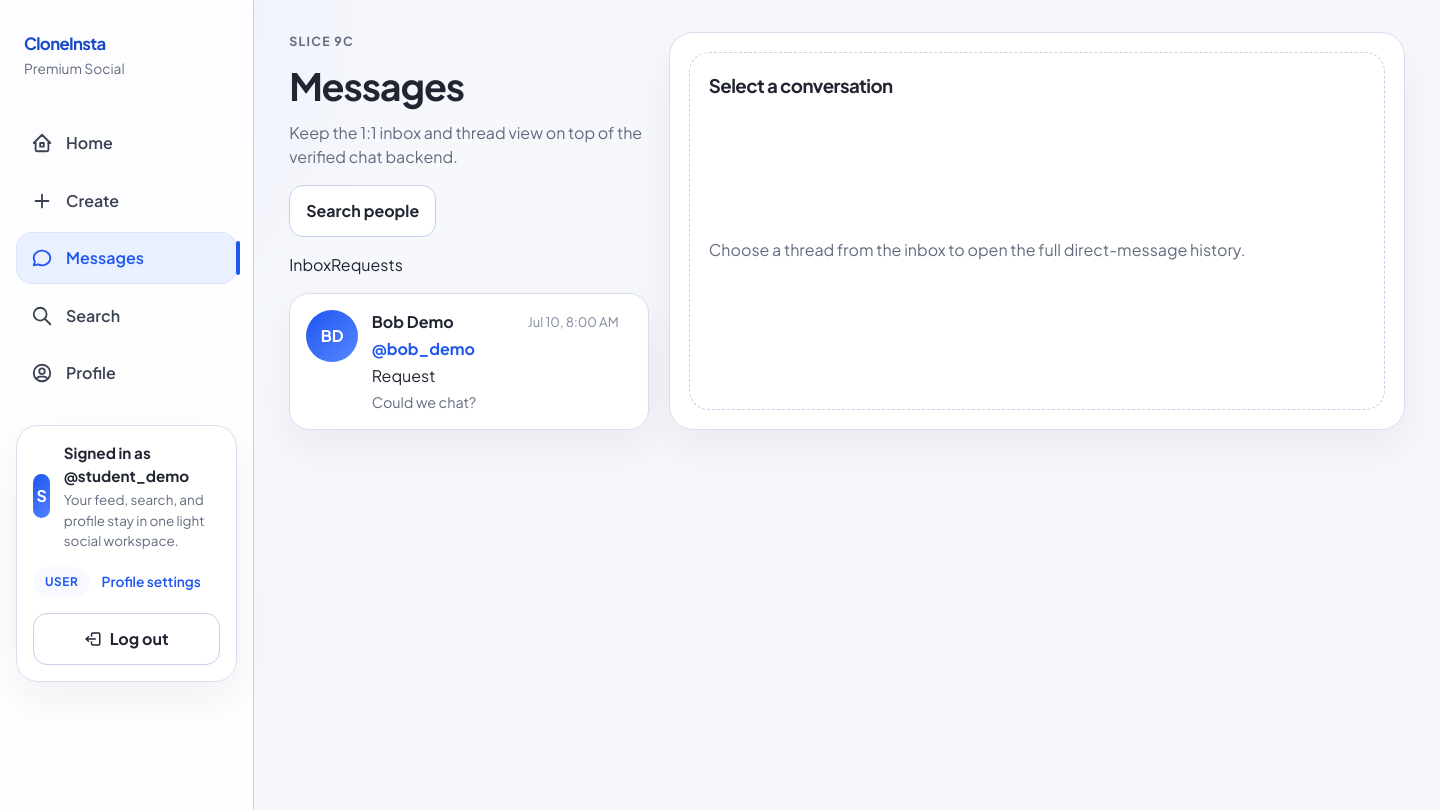
Messages UI › accepts an opened message request before enabling the reply composer
The width and height of the screenshot is (1440, 810).
Step 1. Click the link with aria-label "open chat with bob demo" → (469, 362), box [289,293,649,430]
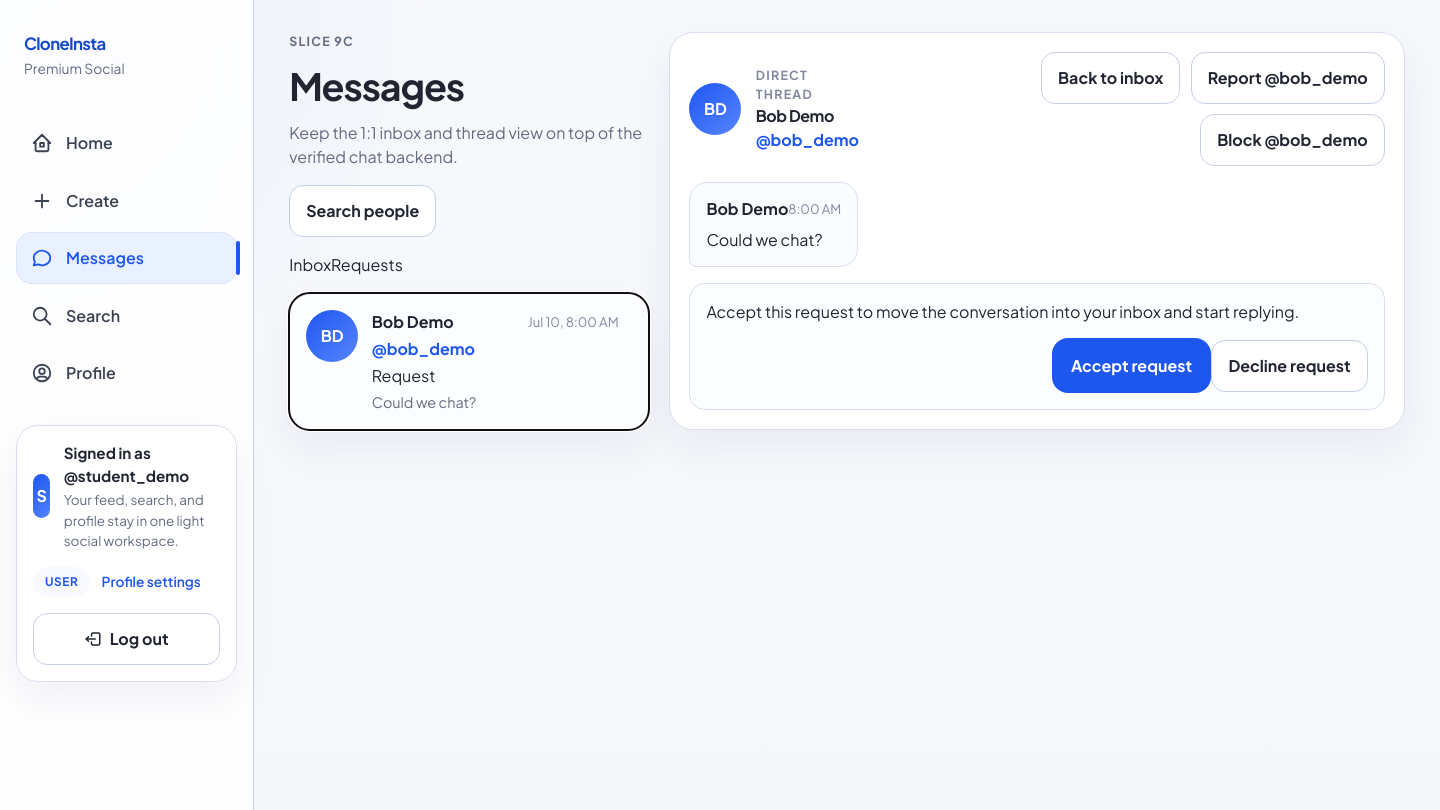
Expected: the button "send message" is not shown
Result: the button "Accept request" is shown
Result: the button "Decline request" is shown at [1211,340,1368,392]
Step 2. Click the button "Accept request" → (1132, 366), box [1052,338,1211,393]
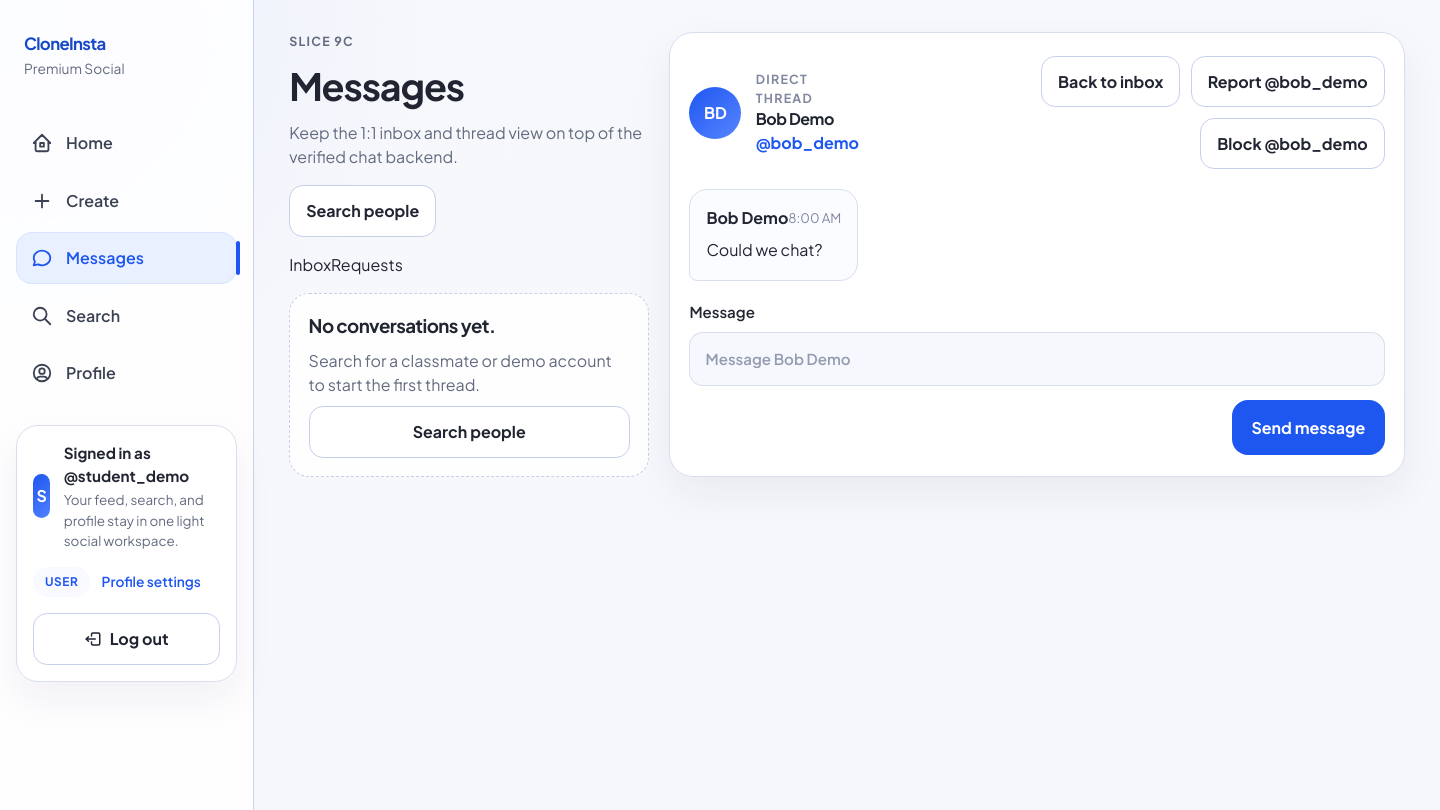
Result: the button "Send message" is shown at [1232,400,1385,455]
